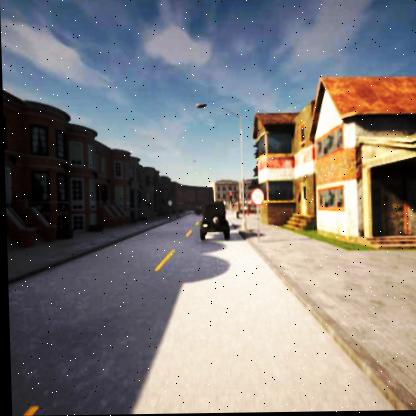vehicle: (197, 201, 228, 239)
